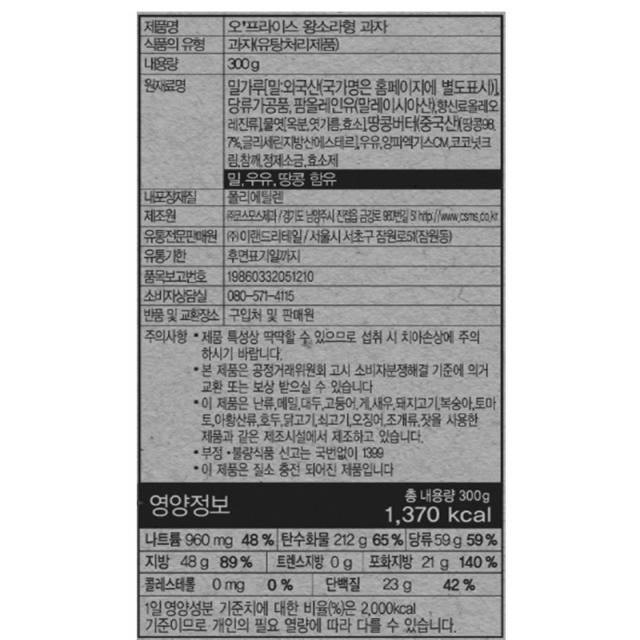Nutrition Label: (132, 477, 514, 640)
